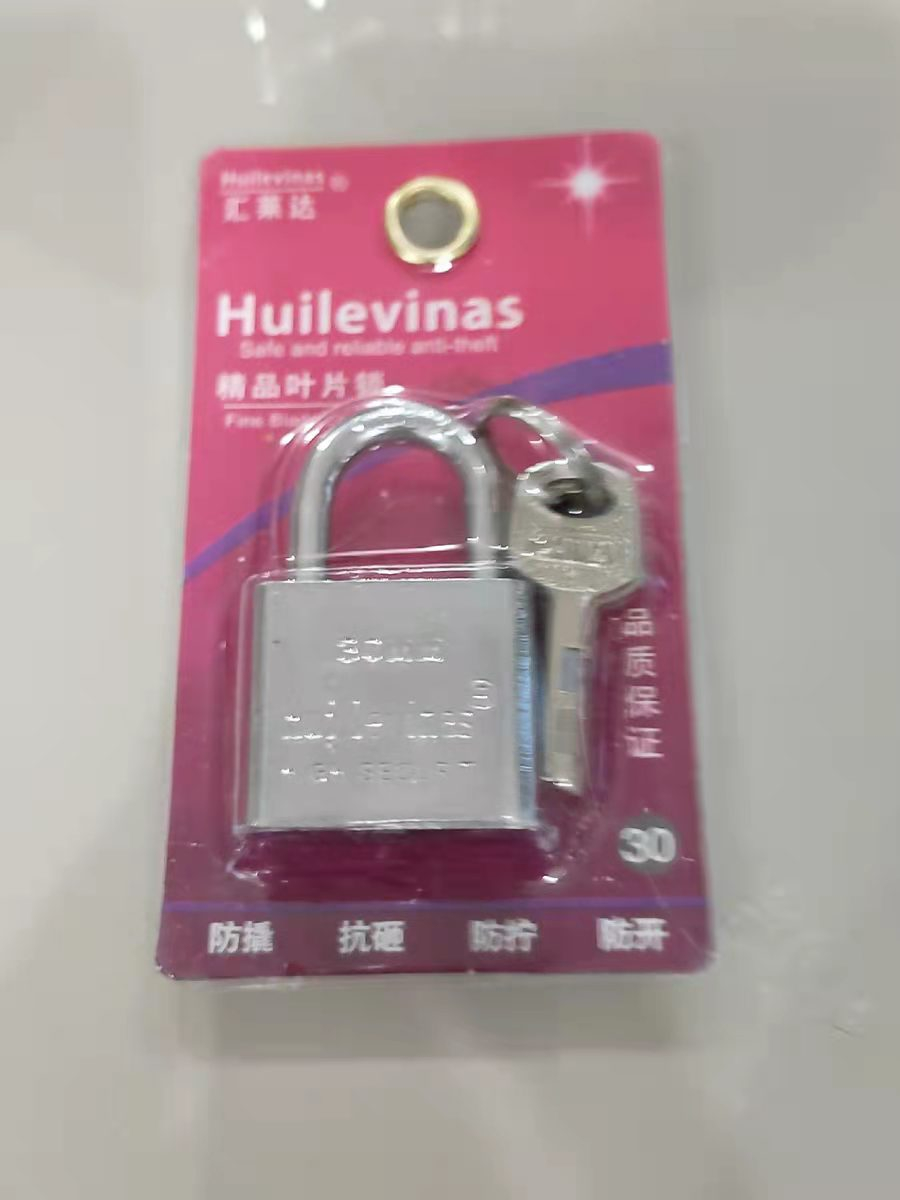key: (502, 443, 657, 807)
